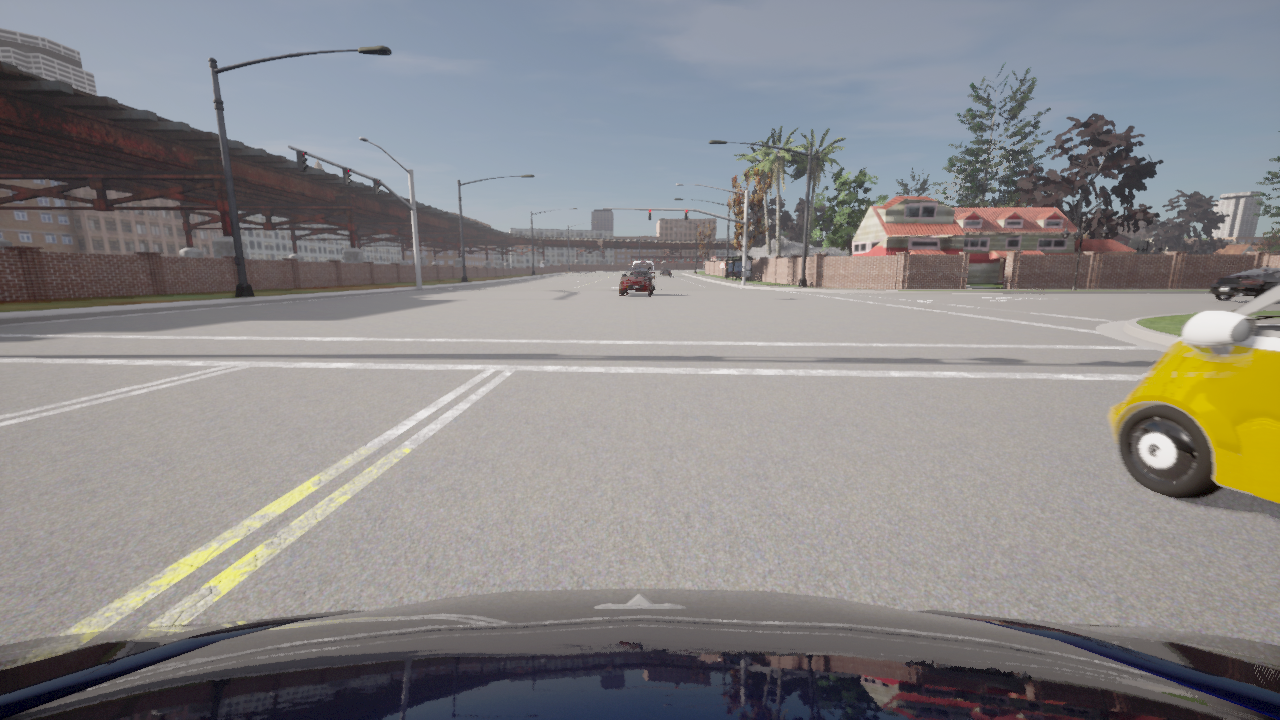cyclist: (0, 588, 1279, 719), (1107, 283, 1279, 503), (1208, 267, 1279, 301), (620, 268, 654, 296), (631, 260, 656, 290), (659, 267, 670, 276)
